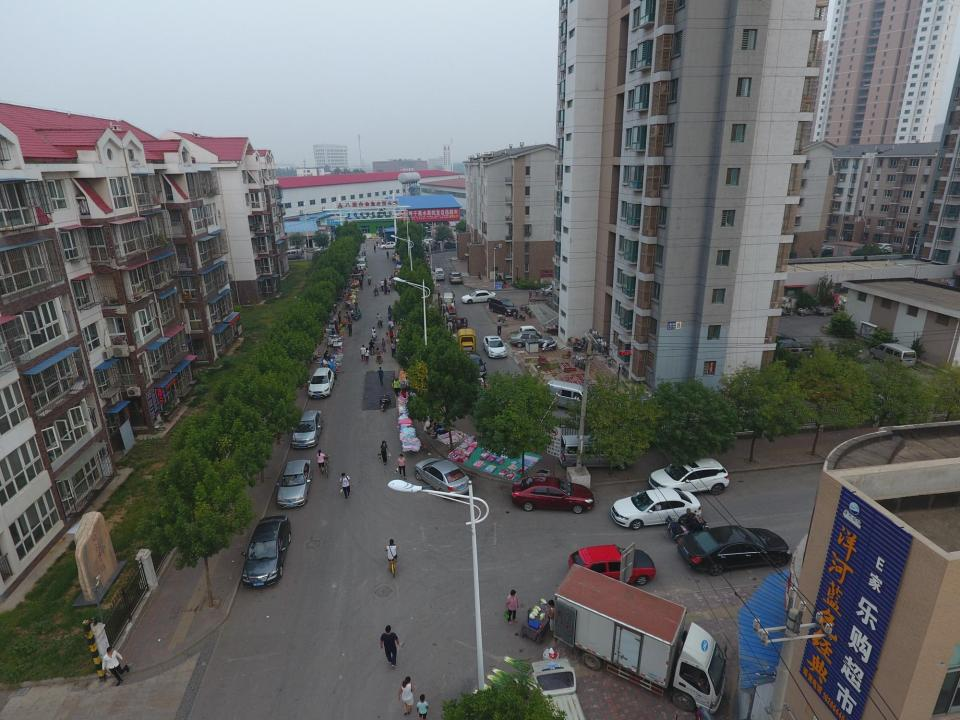car: (679, 526, 792, 576), (611, 488, 701, 530), (568, 543, 655, 585), (242, 515, 291, 588), (511, 475, 594, 514), (648, 457, 730, 495), (414, 458, 473, 500), (276, 459, 312, 508), (291, 410, 323, 448), (775, 338, 815, 362), (306, 367, 334, 397), (458, 353, 488, 378), (510, 331, 552, 348), (483, 336, 507, 358), (461, 289, 496, 304), (540, 285, 570, 297), (869, 242, 893, 255), (815, 244, 837, 256), (520, 326, 541, 338), (815, 248, 836, 260), (314, 245, 334, 253), (448, 272, 463, 282), (380, 242, 400, 249), (444, 242, 459, 249)
truck: (554, 563, 727, 714)
van: (531, 658, 587, 720), (560, 434, 637, 470), (545, 379, 603, 415), (870, 342, 917, 370), (488, 296, 518, 316), (280, 250, 303, 260), (443, 292, 454, 309), (434, 267, 444, 280), (357, 256, 366, 268)
